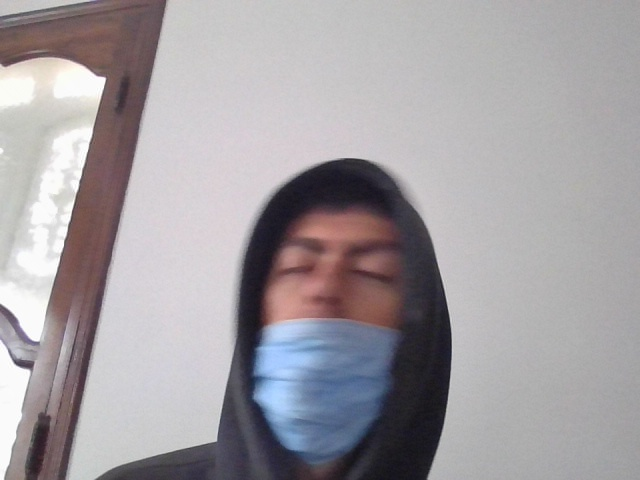mask_weared_incorrect: (240, 194, 421, 448)
